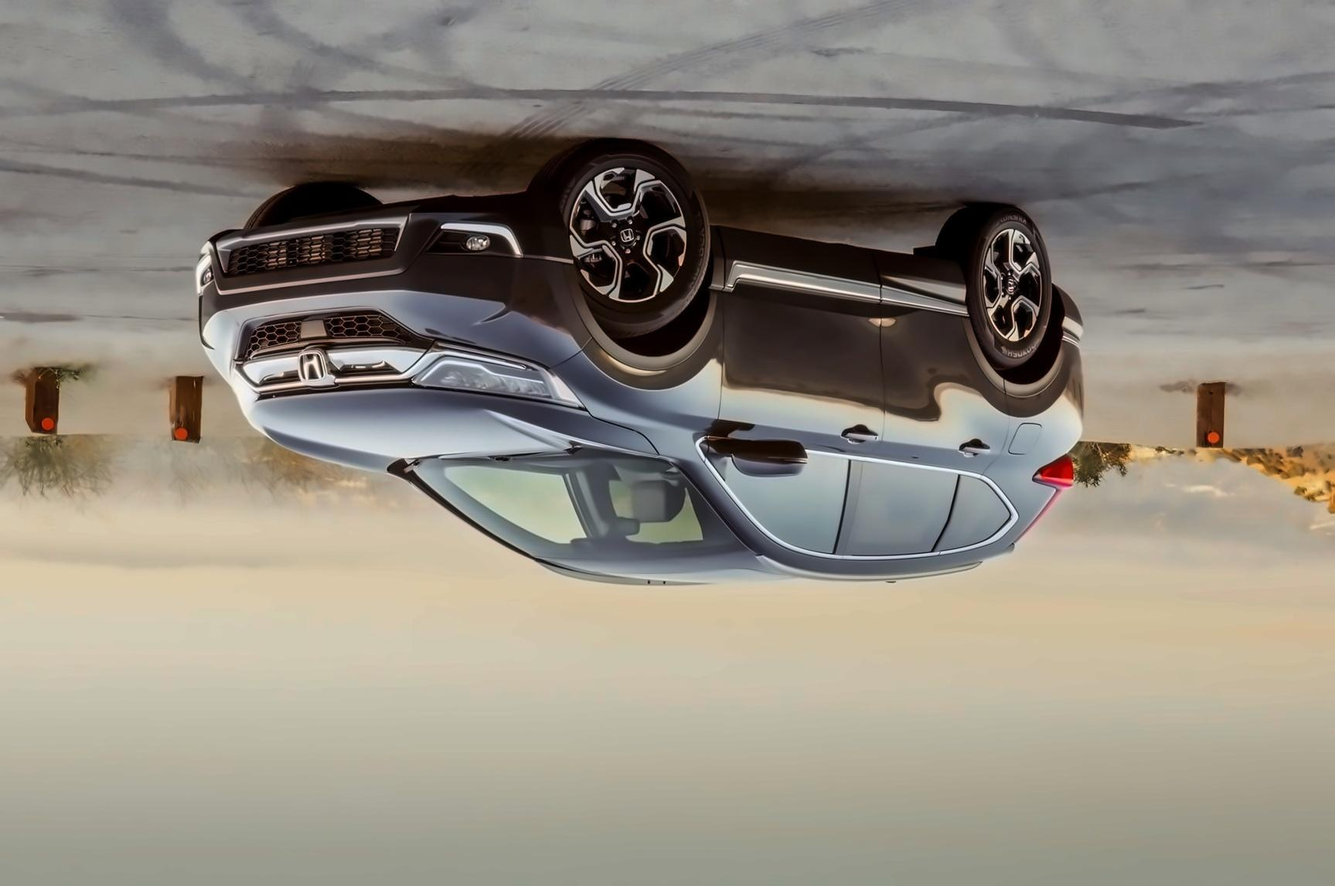Car hood: (228, 383, 673, 474)
Driver-s door - -F-R-: (709, 255, 889, 581)
Fender - -F-R-: (547, 209, 734, 462)
Front bumper: (188, 189, 615, 359)
Headlight - -R-: (384, 312, 591, 420)
Passenger-s door - -R-R-: (868, 312, 1010, 577)
Rear bumper: (1006, 282, 1119, 459)
Rear light - -R-: (1018, 448, 1106, 508)
Side bumper - -R-: (699, 212, 985, 324)
Side mirror - -R-: (688, 415, 819, 485)
